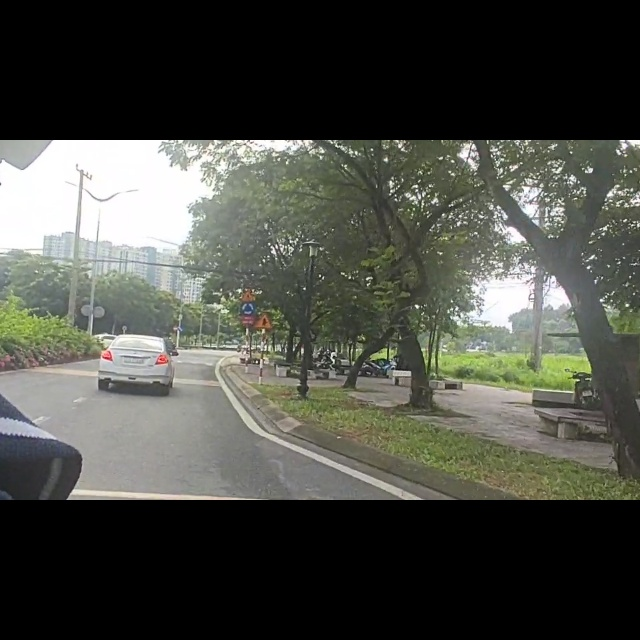bien_hieu_lenh: (253, 308, 273, 337), (241, 288, 256, 312), (241, 268, 256, 288), (178, 332, 184, 343), (172, 329, 177, 341)
